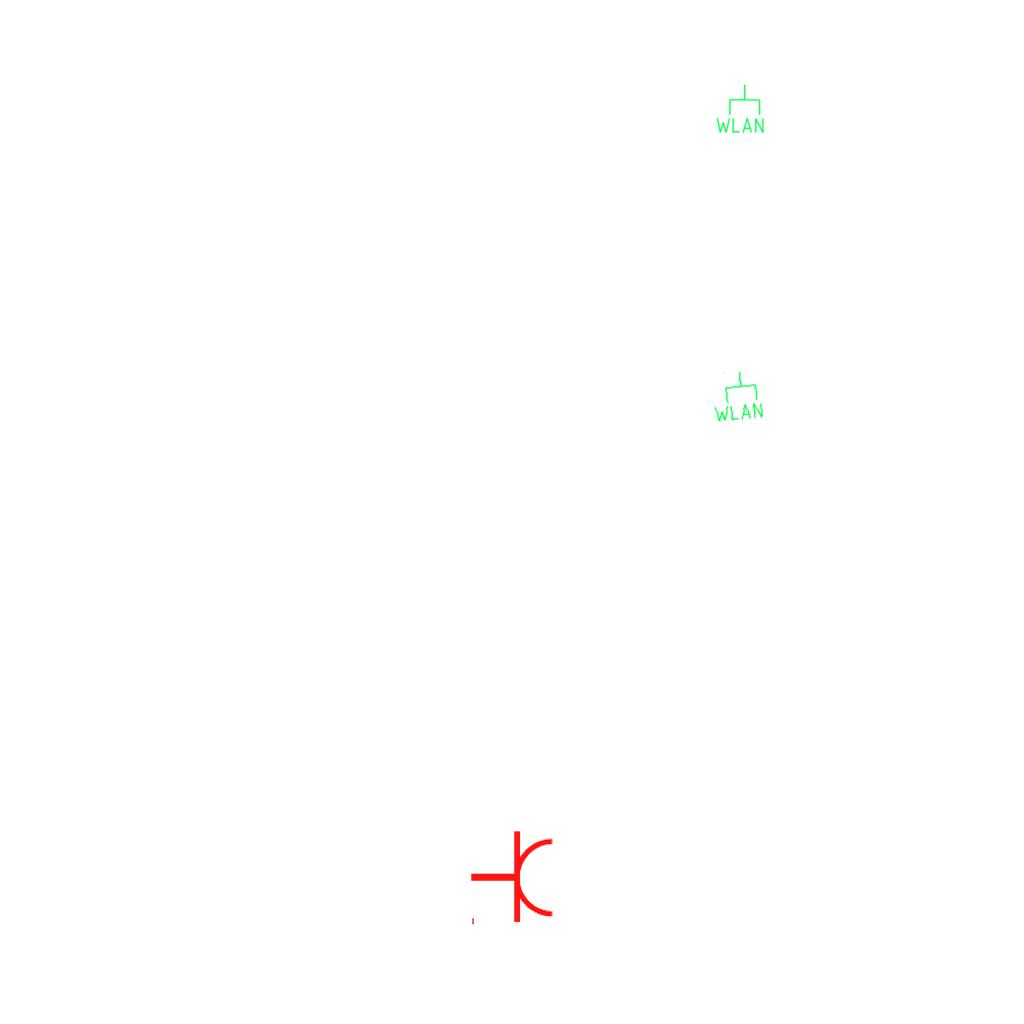Schukosteckdose_einfach: (469, 829, 556, 929)
WLAN: (708, 367, 766, 425), (714, 83, 766, 135)
